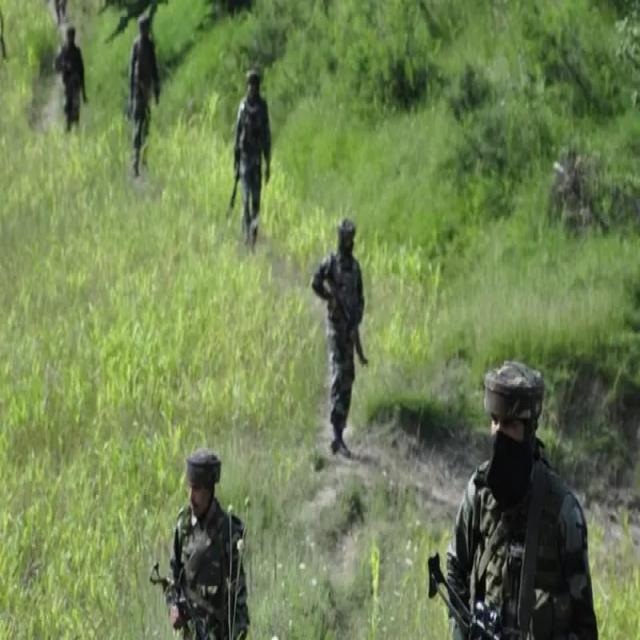Forest: (2, 0, 640, 640)
Militant: (424, 335, 603, 640), (149, 431, 257, 640), (312, 197, 368, 466), (120, 14, 175, 192), (229, 62, 274, 255), (55, 15, 91, 140)
